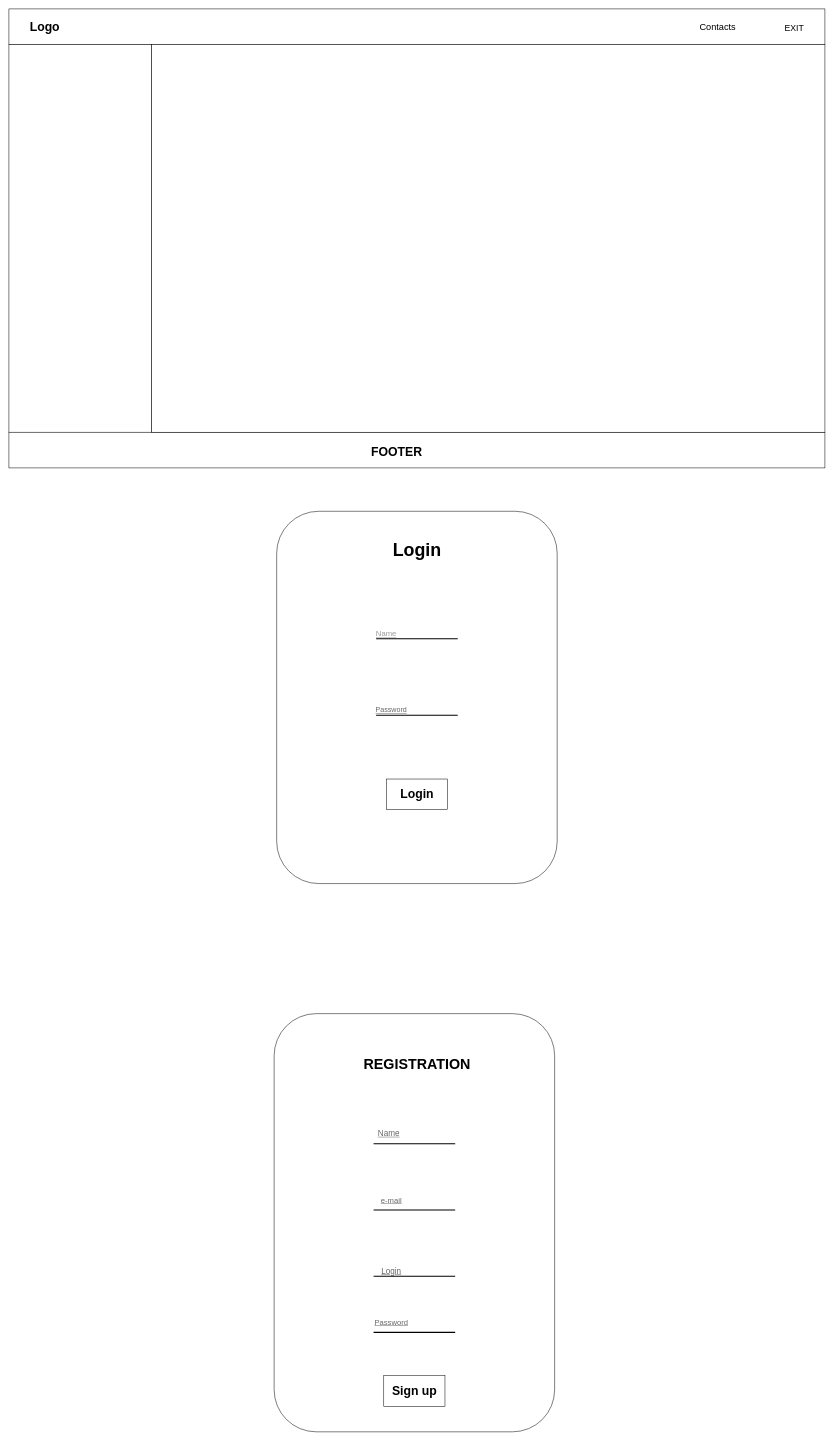
Some shapes in this 834 by 1441 pixel diagram are drawn without their labels. The shapes that lost their labels are listed below. From the top down, each one's box as (x1, y1, x2, y2) in pixels, then its label:
(8, 44, 152, 432): LEFT SIDEBAR
(151, 44, 825, 432): Content
